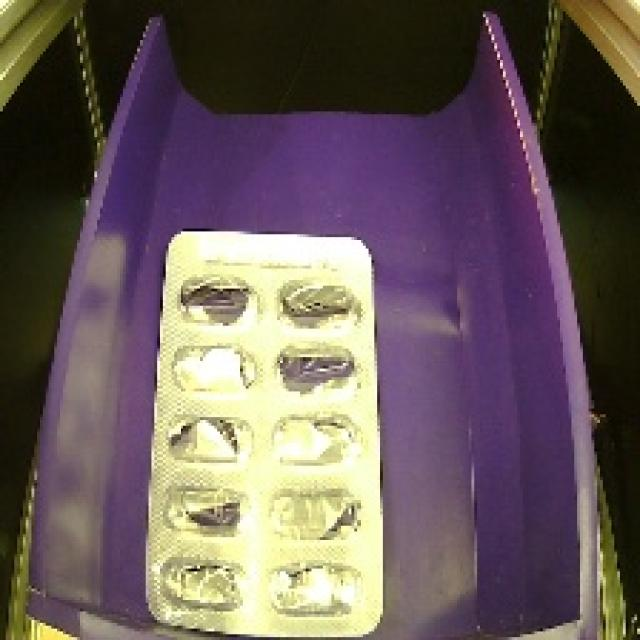med_plate: (135, 216, 394, 640)
